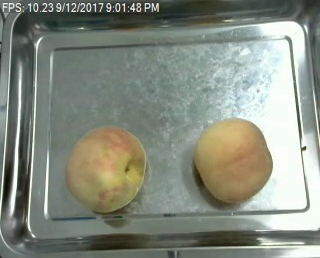Peach: (64, 126, 147, 213), (193, 117, 274, 203)
